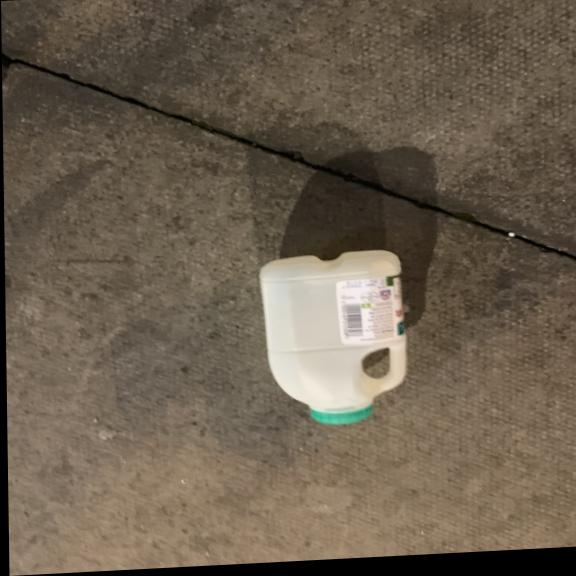Plastik: (249, 245, 408, 431)
